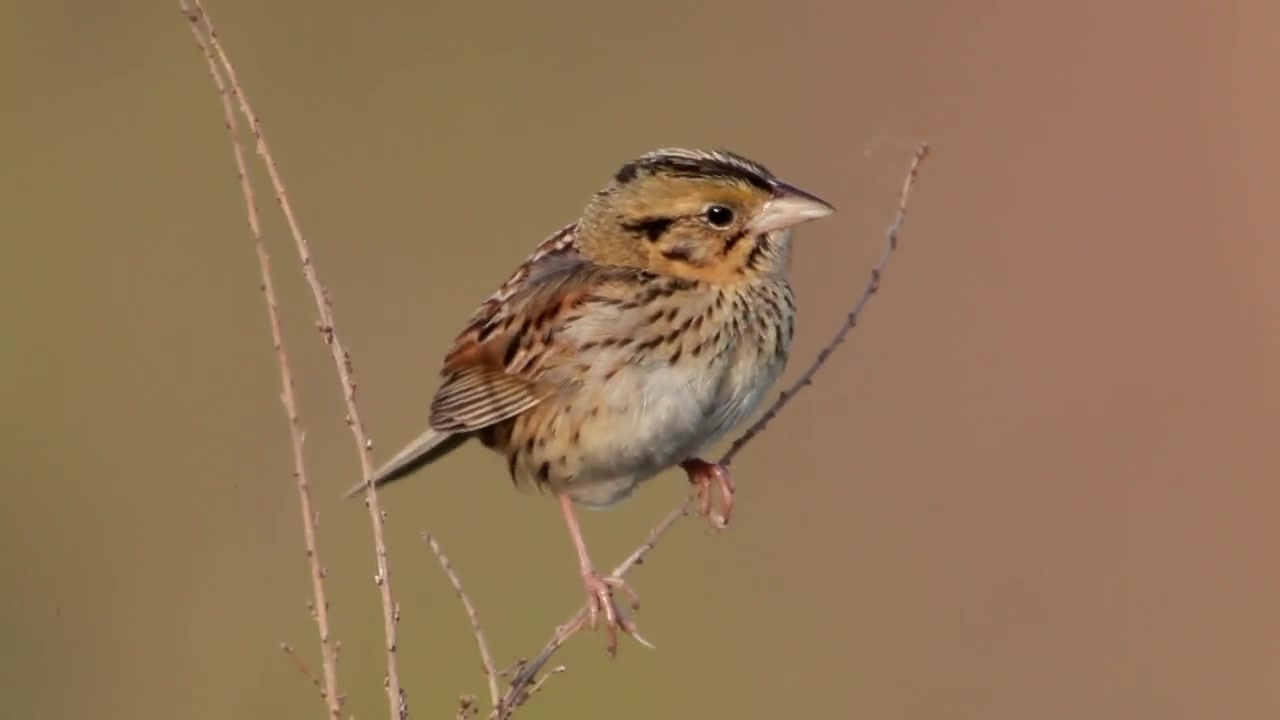bird: (341, 147, 839, 664)
